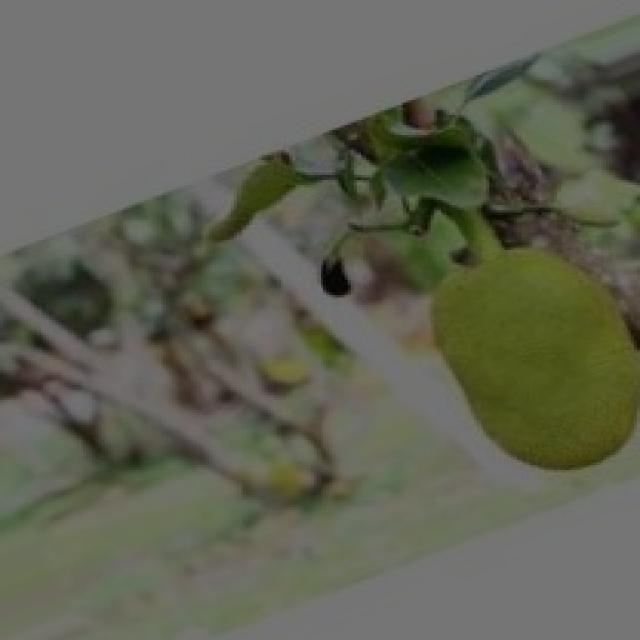Fruit: (387, 217, 640, 504)
